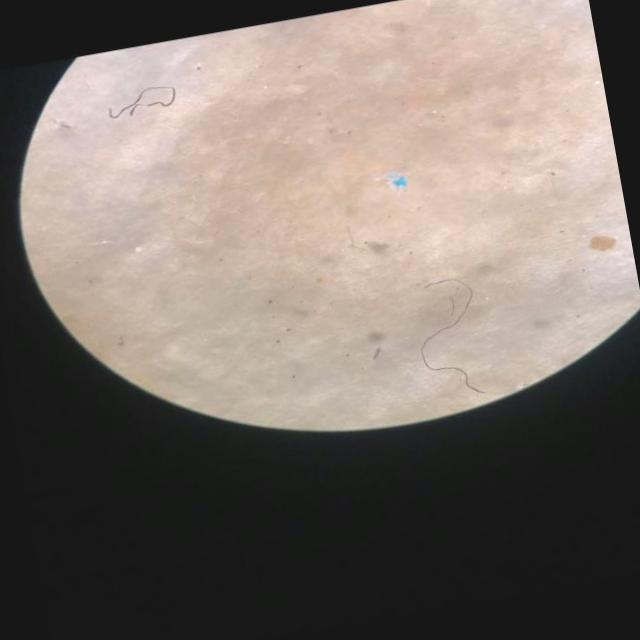fiber: (420, 279, 485, 394), (108, 85, 175, 118)
fragment: (589, 235, 614, 251)
pellet: (134, 246, 142, 252)
